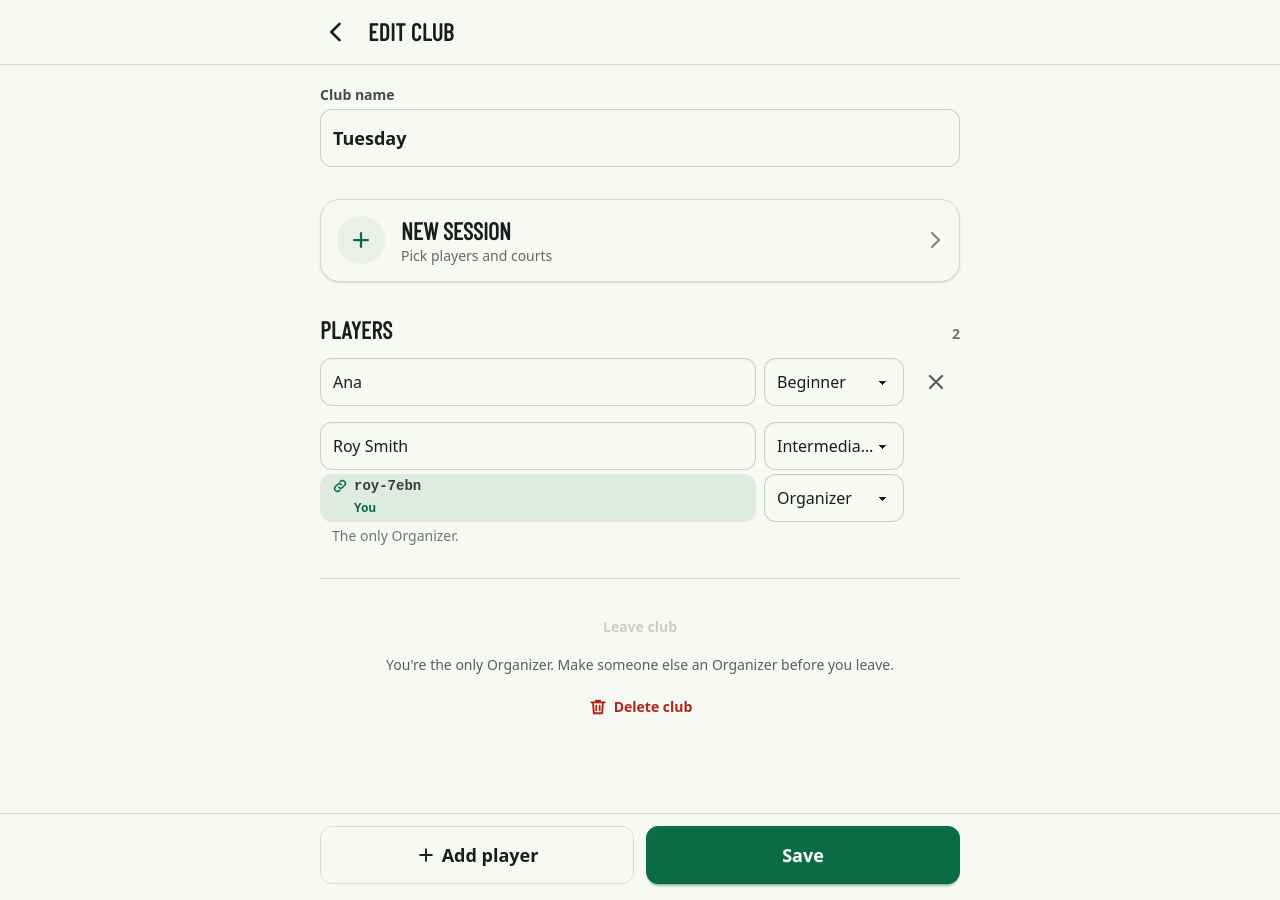
Scenario: Club screens with Accounts › editing a Shared club › sends name and Skill level changes through the Backend
The image size is (1280, 900).
Select "Advanced" in the 1st dropdown named "Skill level for Ana" at (834, 382), box [764,358,904,406]
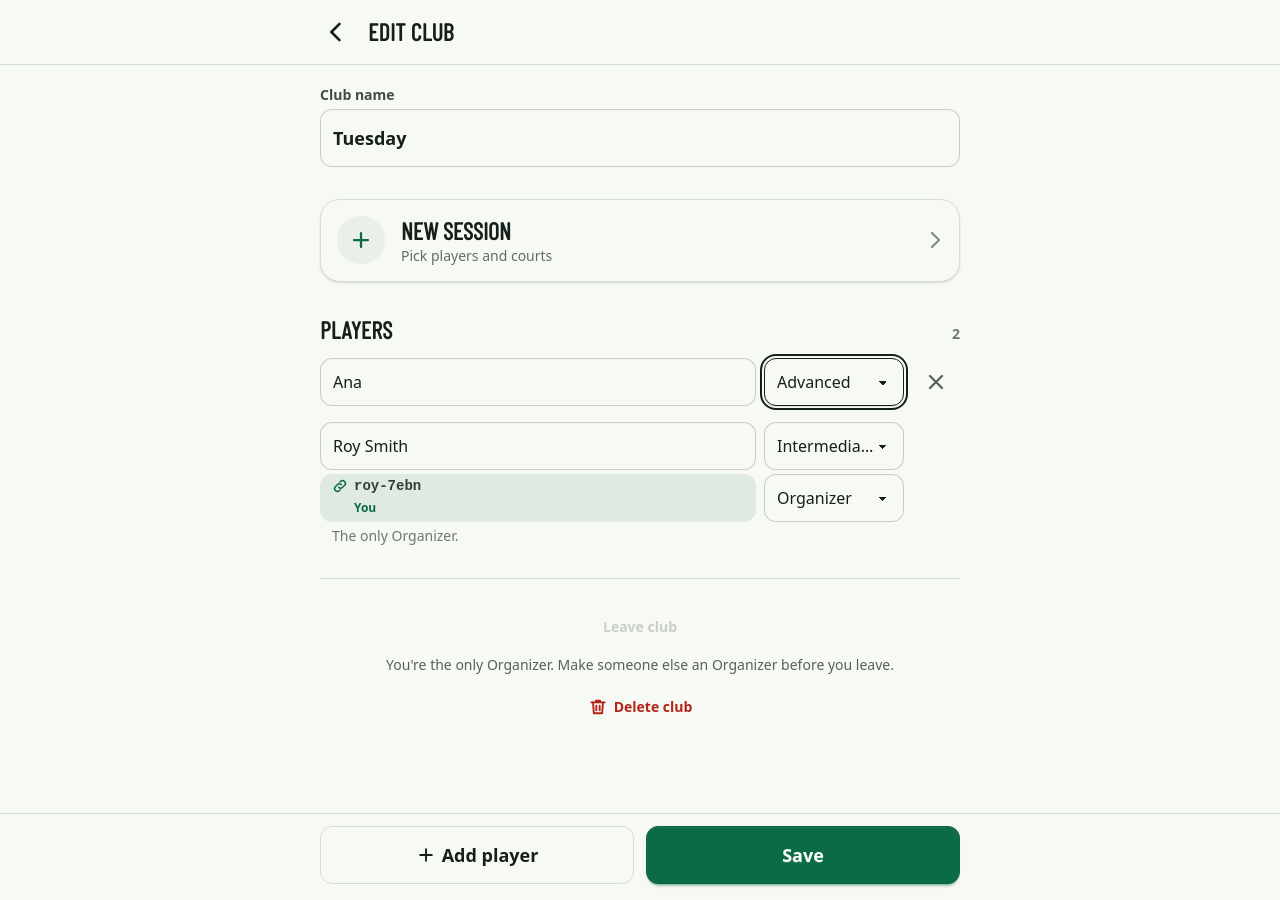
Replace the text in the field labelled "Club name" with "Friday" at (640, 138), box [320,109,960,167]
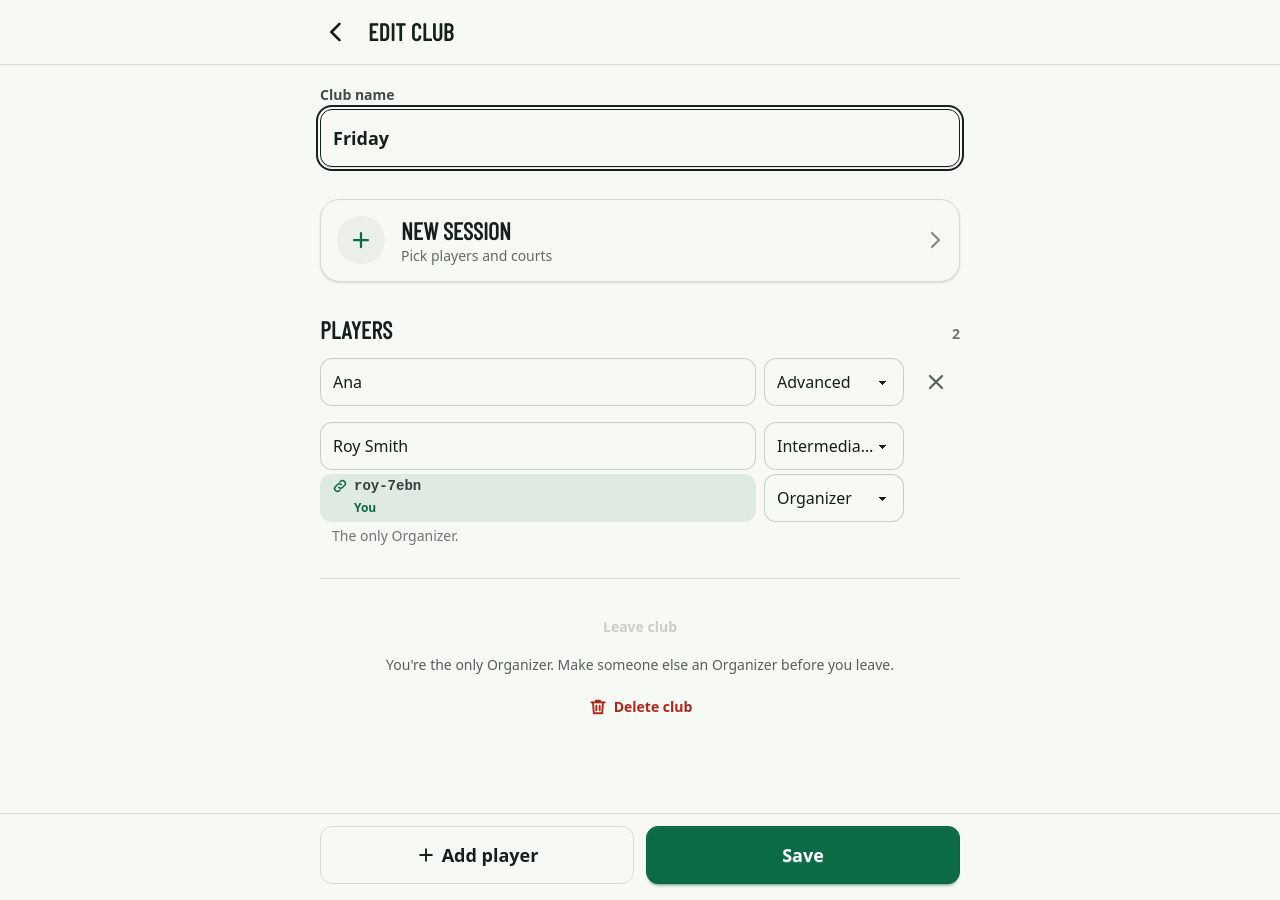
Click the button "Save" at (803, 855), box [646,826,960,884]
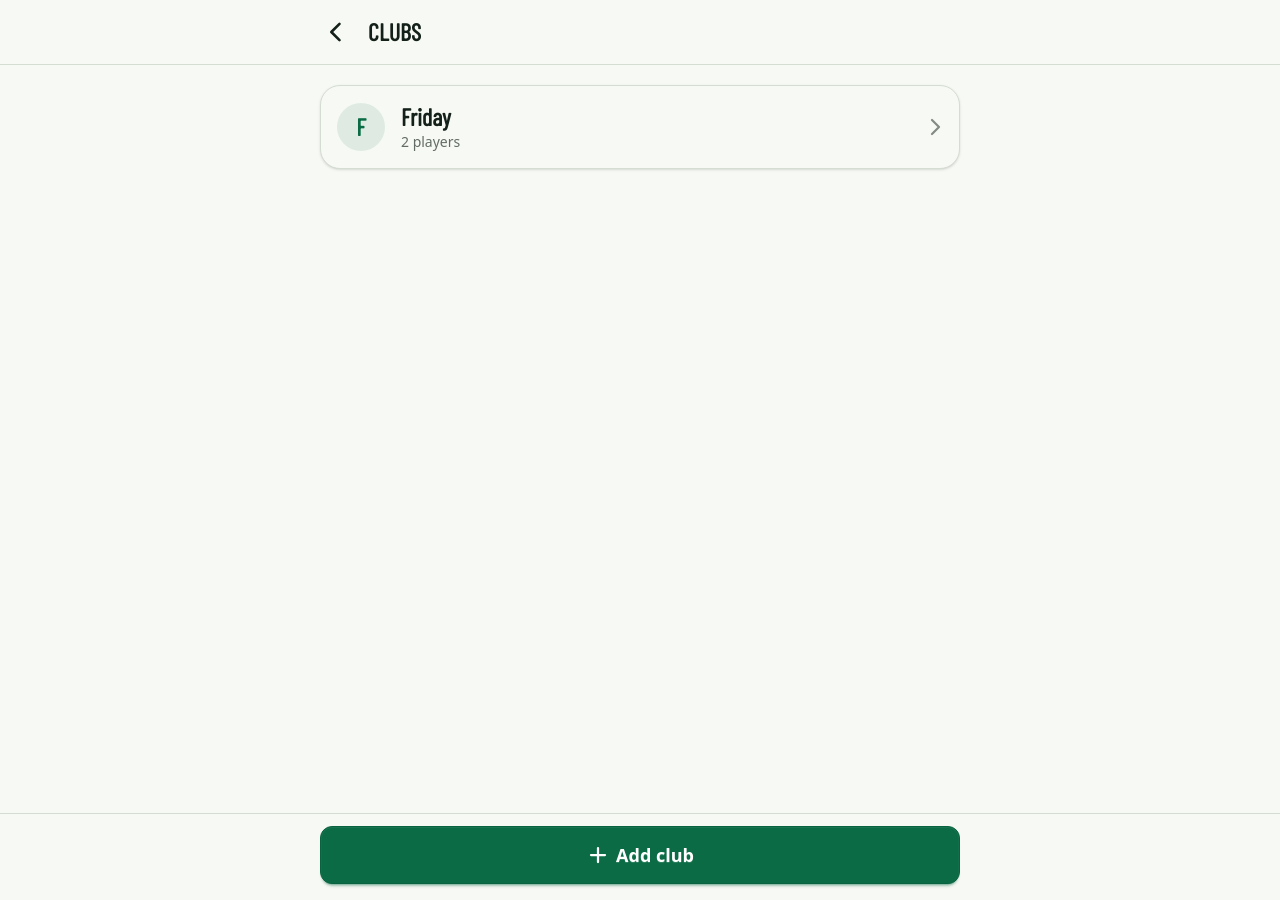
Expected: the text "Friday" is shown, [401,102,451,131]
